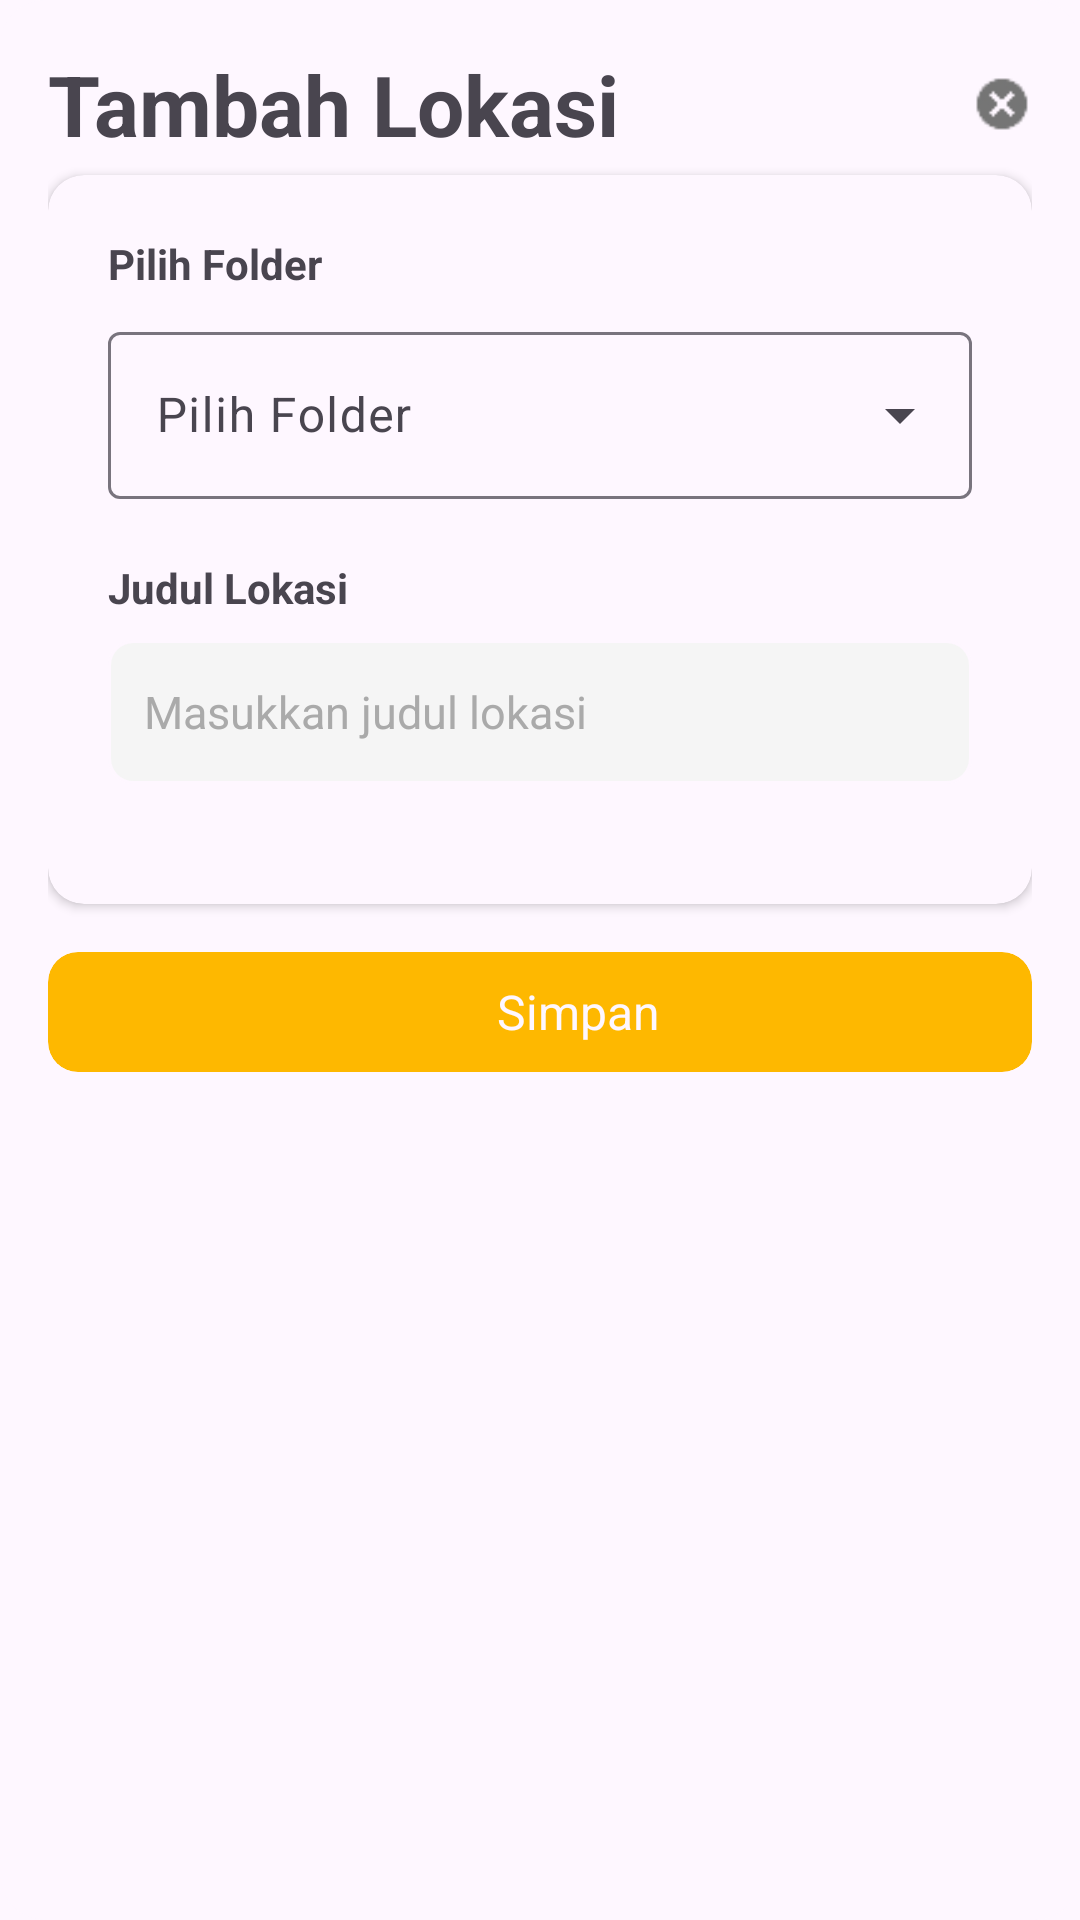

Where to tap for icons on this 1080px×1920px app screen, as (x,y):
Close: (1002,104)
